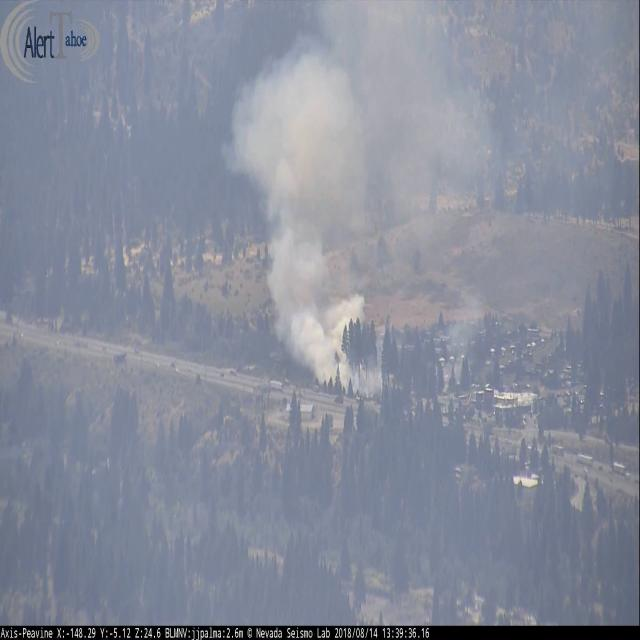smoke: (238, 1, 487, 400)
